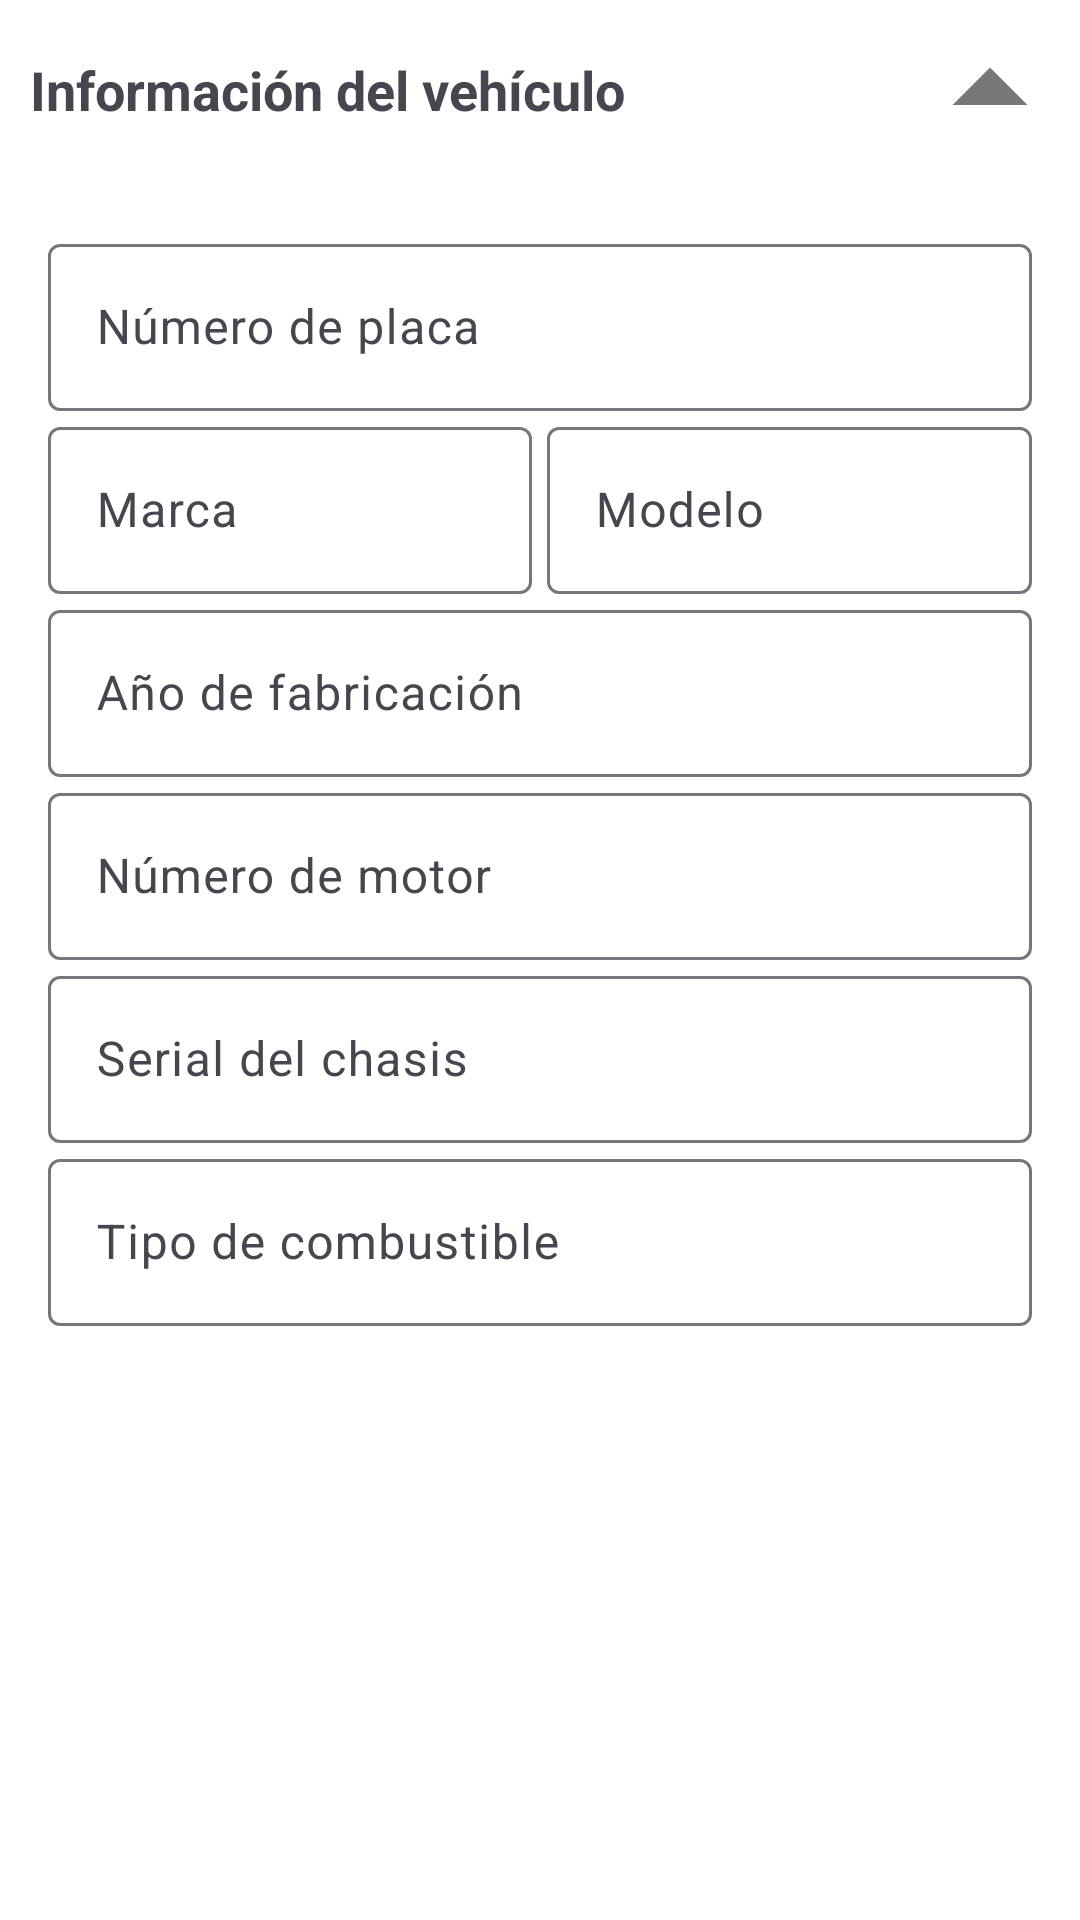

Screen size 1080w x 1920h. Icon name, then its box in pixels as rect(x1, y1, x2, y2):
drop up: rect(953, 68, 1027, 105)
